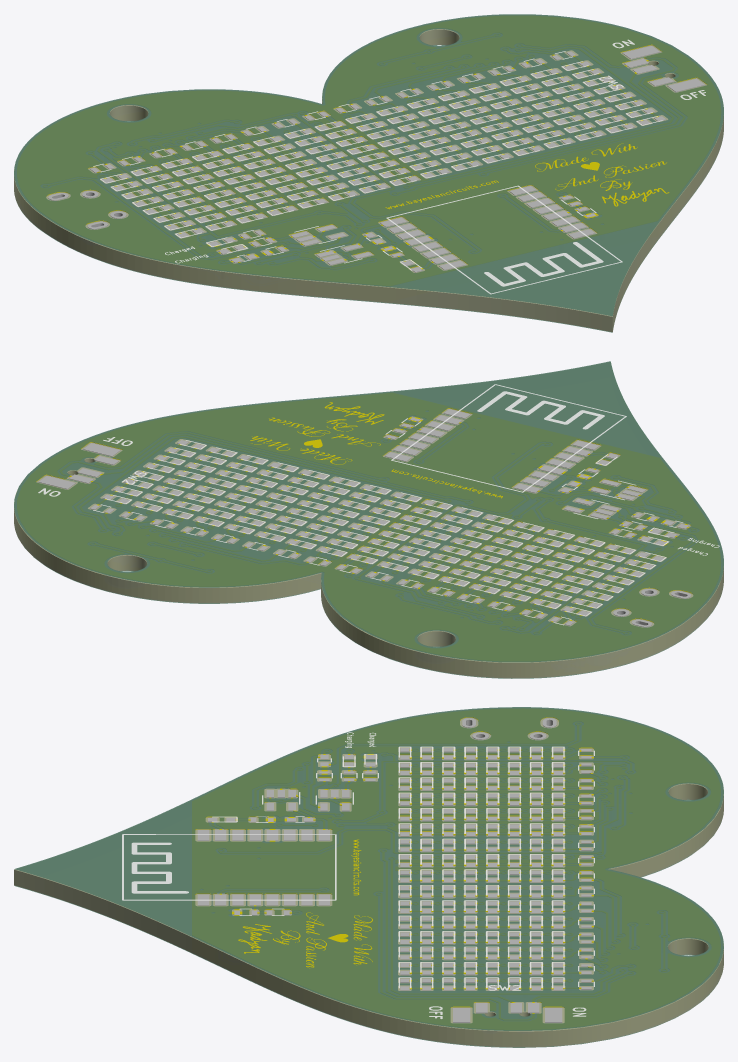
Rendered from led-ble-hearty-necklace-badge.glb.
3 renders of one model, top to bottom at view 1: azimuth 30°, elevation 25°; view 2: azimuth 150°, elevation 25°; view 3: azimuth 270°, elevation 25°, orthographic. The views are drawn at different scales.
Visible parts, largest first — view 1: =>[0:1:1:7], =>[0:1:1:2], =>[0:1:1:9], =>[0:1:1:5]; view 2: =>[0:1:1:7], =>[0:1:1:2], =>[0:1:1:9], =>[0:1:1:5]; view 3: =>[0:1:1:7], =>[0:1:1:2], =>[0:1:1:9], =>[0:1:1:5].
Boxes of the visible parts, x1,y1,x2,y2 form: =>[0:1:1:7]: (14, 14, 723, 332); =>[0:1:1:2]: (17, 16, 720, 285); =>[0:1:1:9]: (14, 15, 723, 332); =>[0:1:1:5]: (93, 39, 705, 294); =>[0:1:1:7]: (14, 361, 723, 678); =>[0:1:1:2]: (17, 393, 720, 660); =>[0:1:1:9]: (14, 362, 723, 678); =>[0:1:1:5]: (38, 384, 719, 625); =>[0:1:1:7]: (14, 707, 723, 1047); =>[0:1:1:2]: (192, 709, 720, 1029); =>[0:1:1:9]: (14, 708, 723, 1047); =>[0:1:1:5]: (122, 732, 594, 1018).
Bounding box in the file's own units: 0.0667 × 0.00166 × 0.0617.
Materials: 4 (4 with a texture image).
